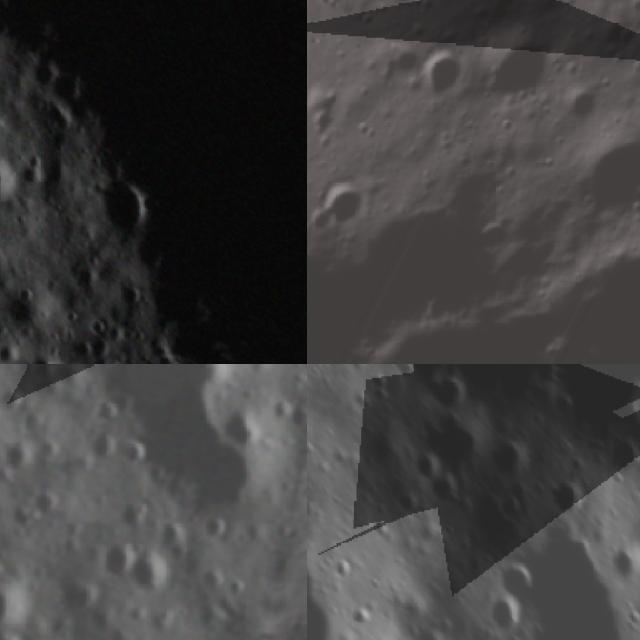crater: (462, 10, 578, 130), (554, 113, 640, 237), (80, 162, 169, 252), (307, 152, 383, 252), (404, 39, 476, 114), (421, 412, 492, 483), (121, 544, 187, 610), (40, 567, 104, 629), (0, 560, 44, 640), (0, 128, 35, 217), (93, 531, 145, 588), (109, 489, 162, 541), (217, 407, 270, 458), (151, 514, 197, 564), (423, 373, 472, 418), (493, 558, 542, 602), (187, 600, 239, 640), (81, 426, 126, 472), (0, 435, 43, 482), (486, 591, 526, 640), (112, 276, 154, 319), (494, 441, 533, 485), (550, 478, 590, 518), (84, 397, 124, 435), (197, 516, 237, 552), (609, 541, 640, 587), (195, 562, 232, 600), (30, 486, 69, 522), (0, 382, 31, 425), (611, 434, 640, 478), (221, 573, 255, 609), (266, 393, 298, 429), (493, 491, 529, 523), (119, 436, 151, 471), (430, 474, 460, 509), (283, 402, 307, 439), (20, 348, 69, 364)
